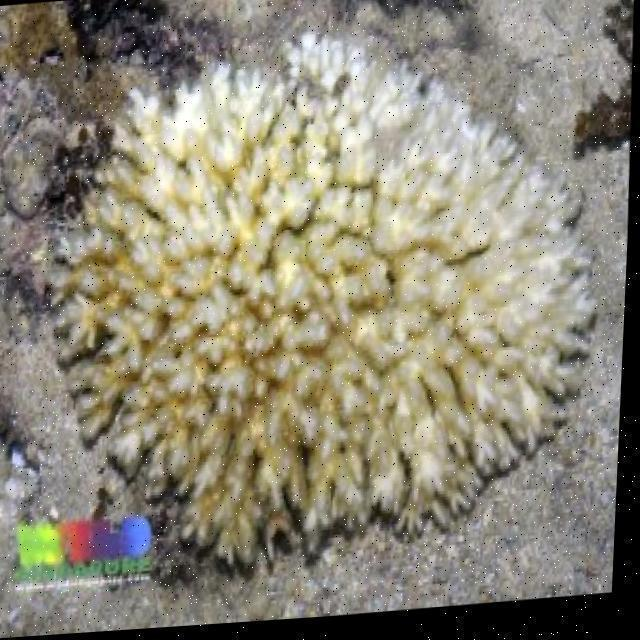Bleached Coral: (91, 48, 584, 534)
